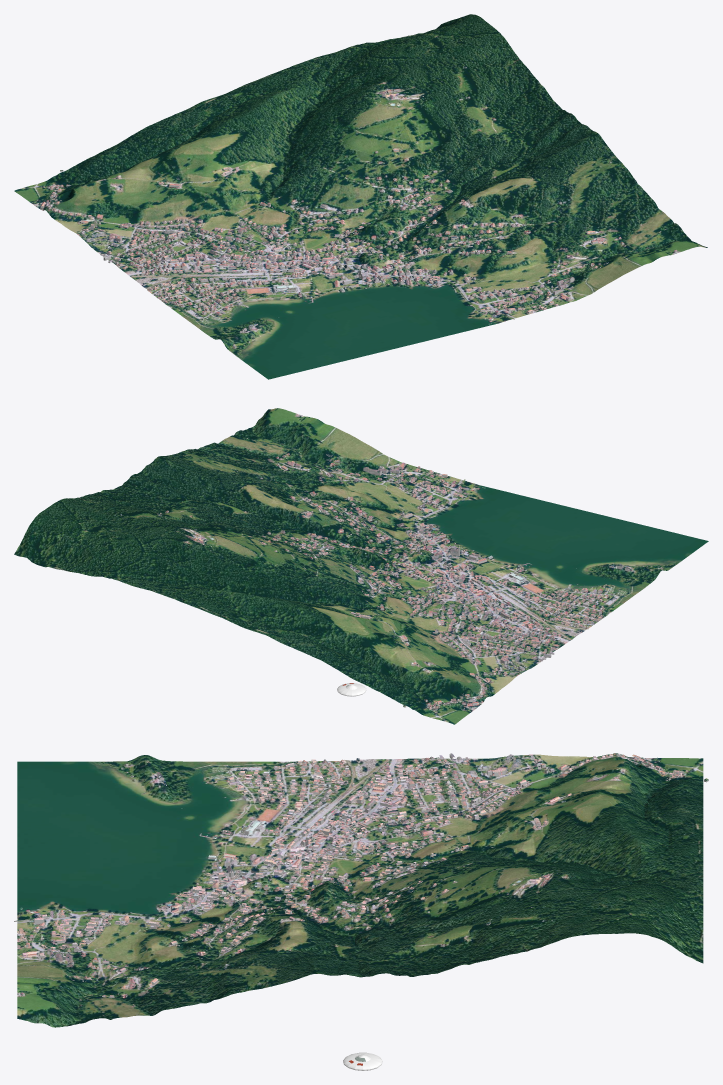
The model's file is asset.glb.
3 renders of one model, top to bottom at view 1: azimuth 30°, elevation 25°; view 2: azimuth 150°, elevation 25°; view 3: azimuth 270°, elevation 25°, orthographic. The views are drawn at different scales.
Parts seen in each view (by area): view 1: DGM_Schliersee_10m, Dach, Wand/Fassade; view 2: DGM_Schliersee_10m, Dach, Wand/Fassade; view 3: DGM_Schliersee_10m, Dach, Wand/Fassade, Ufo.
Part boxes in pixels (x1=…): DGM_Schliersee_10m: x1=14, y1=14, x2=707, y2=379; Dach: x1=32, y1=66, x2=676, y2=347; Wand/Fassade: x1=32, y1=63, x2=677, y2=348; DGM_Schliersee_10m: x1=14, y1=408, x2=708, y2=724; Dach: x1=120, y1=414, x2=662, y2=712; Wand/Fassade: x1=115, y1=415, x2=662, y2=712; DGM_Schliersee_10m: x1=17, y1=753, x2=703, y2=1027; Dach: x1=16, y1=753, x2=708, y2=1015; Wand/Fassade: x1=14, y1=754, x2=708, y2=1015; Ufo: x1=343, y1=1052, x2=382, y2=1070.
Size of the model in its own units: 2005 by 876 by 2016.
Materials: 7 (3 with a texture image).
